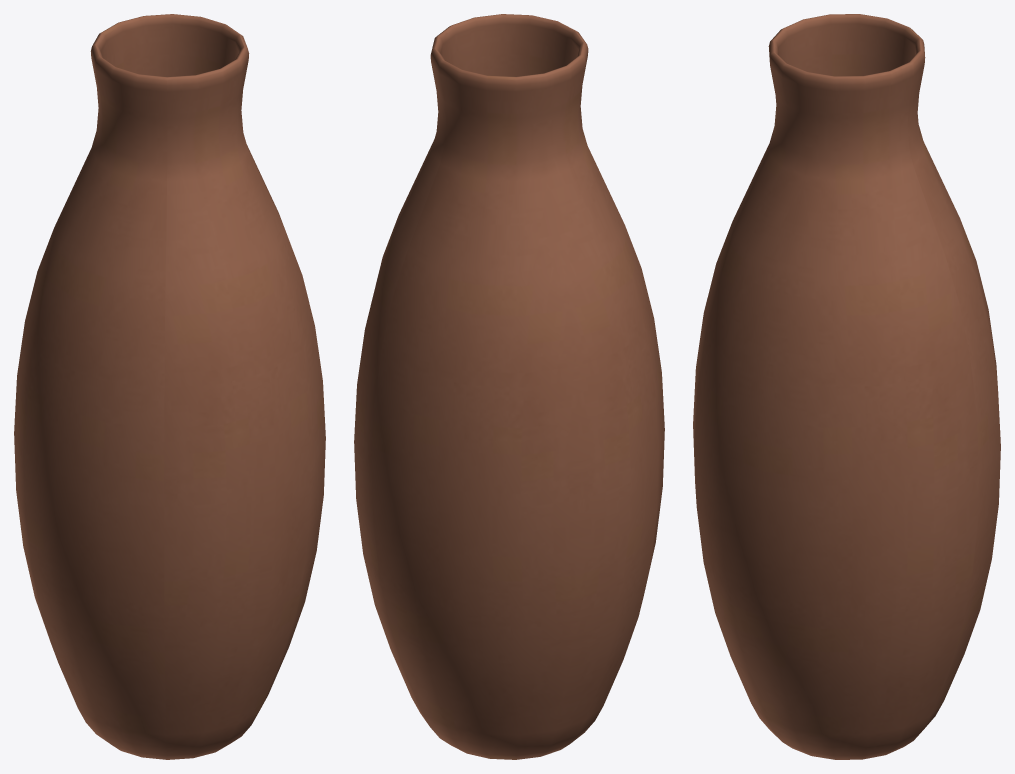
Rendered from vase.glb.
The picture shows the model from 3 angles, left to right: view 1: azimuth 30°, elevation 25°; view 2: azimuth 150°, elevation 25°; view 3: azimuth 270°, elevation 25°; orthographic projection.
Parts seen in each view (by area): view 1: Clay Vase.007; view 2: Clay Vase.007; view 3: Clay Vase.007.
Boxes of the visible parts, x1,y1,x2,y2 form: Clay Vase.007: [14, 14, 325, 759]; Clay Vase.007: [354, 14, 664, 759]; Clay Vase.007: [693, 14, 1000, 759].
Bounding box in the file's own units: 0.1073 × 0.2651 × 0.1073.
Materials: 1 (1 with a texture image).
